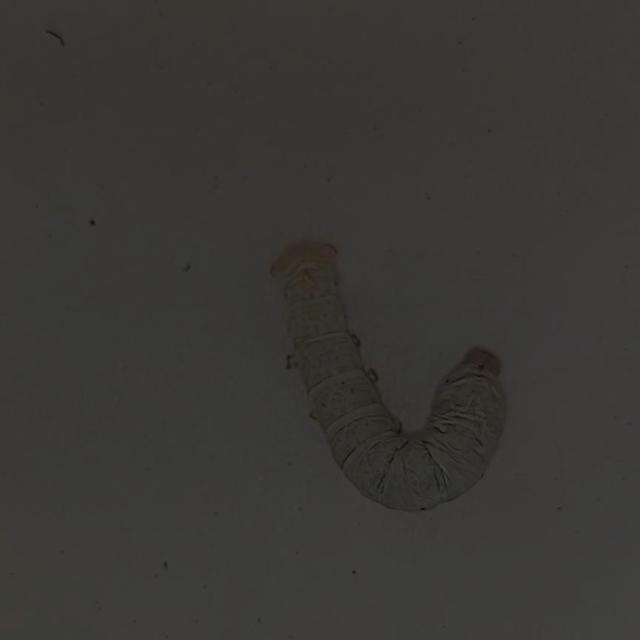Healthy: (262, 230, 514, 530)
